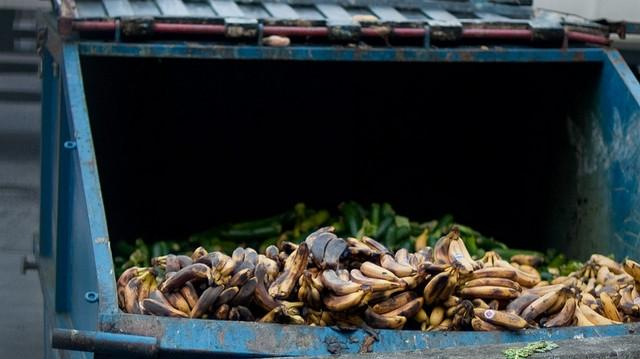banana: (254, 262, 304, 312), (278, 241, 310, 300), (492, 253, 540, 289), (160, 264, 213, 294), (116, 266, 148, 313), (521, 288, 563, 323), (320, 268, 370, 296), (424, 264, 456, 306), (578, 296, 624, 325), (350, 269, 408, 292), (540, 292, 576, 328), (166, 272, 200, 309), (322, 286, 370, 312), (473, 308, 529, 330), (124, 270, 152, 314), (434, 231, 459, 280), (448, 228, 474, 274), (190, 284, 225, 318), (358, 304, 407, 328), (456, 277, 522, 293), (459, 267, 517, 285), (312, 232, 338, 271), (372, 292, 417, 314), (379, 296, 424, 318), (436, 262, 462, 300), (152, 254, 180, 289), (457, 231, 481, 271), (380, 254, 418, 278), (208, 286, 240, 314), (455, 286, 518, 300), (360, 262, 402, 282), (162, 288, 190, 318), (148, 277, 174, 308), (506, 294, 541, 316), (572, 294, 596, 326), (591, 254, 628, 274), (598, 266, 634, 286), (138, 274, 155, 316), (306, 280, 328, 312), (324, 238, 347, 268), (600, 291, 622, 322), (268, 268, 290, 298), (367, 288, 408, 304), (619, 284, 639, 315), (258, 305, 290, 324), (451, 301, 471, 331), (548, 287, 568, 316), (329, 310, 364, 326), (606, 284, 628, 308), (522, 284, 566, 296), (394, 248, 417, 270), (308, 308, 336, 326), (214, 260, 236, 282), (430, 298, 447, 326), (157, 256, 195, 268), (307, 270, 325, 294), (362, 237, 389, 252), (518, 264, 540, 282), (581, 268, 596, 293), (462, 306, 476, 332), (579, 292, 599, 310), (622, 260, 640, 280), (266, 245, 282, 267), (571, 262, 590, 280), (348, 248, 381, 258), (400, 274, 420, 290), (190, 246, 208, 263), (244, 248, 258, 269), (444, 303, 463, 318), (238, 260, 255, 276), (238, 306, 255, 322), (213, 303, 229, 320), (417, 246, 433, 262), (215, 274, 232, 286), (444, 296, 462, 307), (189, 278, 208, 288), (240, 294, 254, 306), (348, 262, 362, 274), (482, 253, 493, 268), (551, 276, 569, 285), (532, 281, 549, 289), (372, 258, 382, 266), (223, 255, 232, 260), (426, 316, 430, 324)
